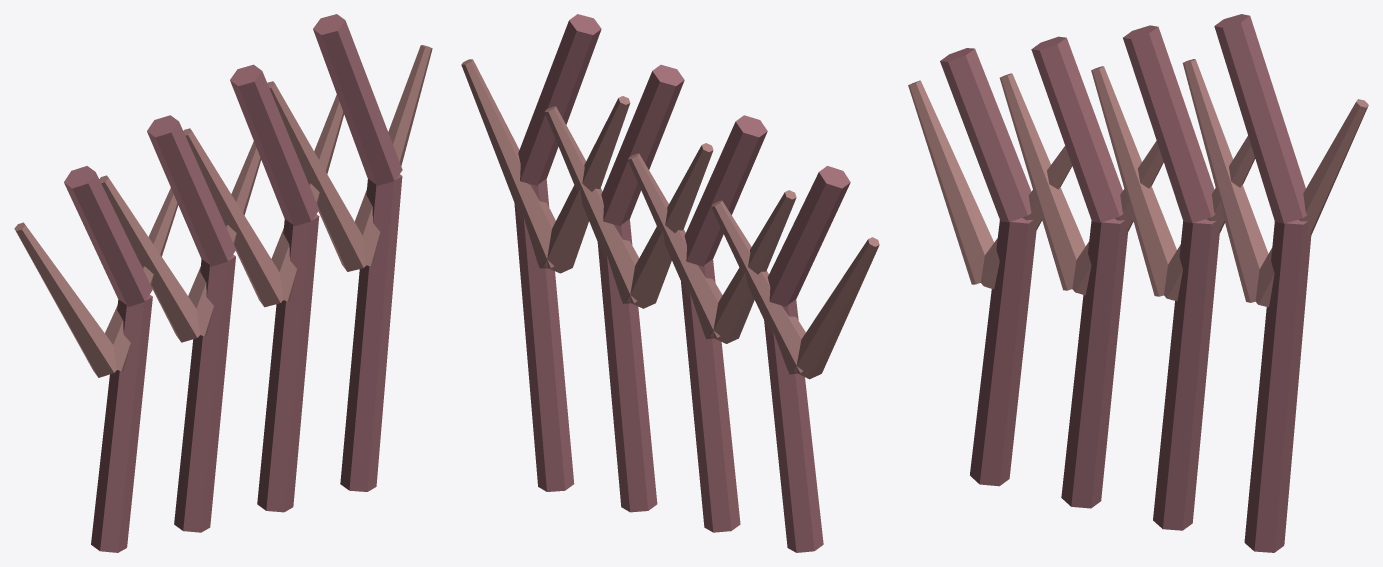
File: map-boundaries-v5__tide_10.glb
3 renders of one model, left to right at view 1: azimuth 30°, elevation 25°; view 2: azimuth 150°, elevation 25°; view 3: azimuth 330°, elevation 25°, orthographic. The views are drawn at different scales.
Parts seen in each view (by area): view 1: tide_10; view 2: tide_10; view 3: tide_10.
Part boxes in pixels (<box>): tide_10: <box>14,14,432,552</box>; tide_10: <box>461,14,879,552</box>; tide_10: <box>908,14,1368,552</box>.
Size of the model in its own units: 1.85 by 2.02 by 0.1744.
